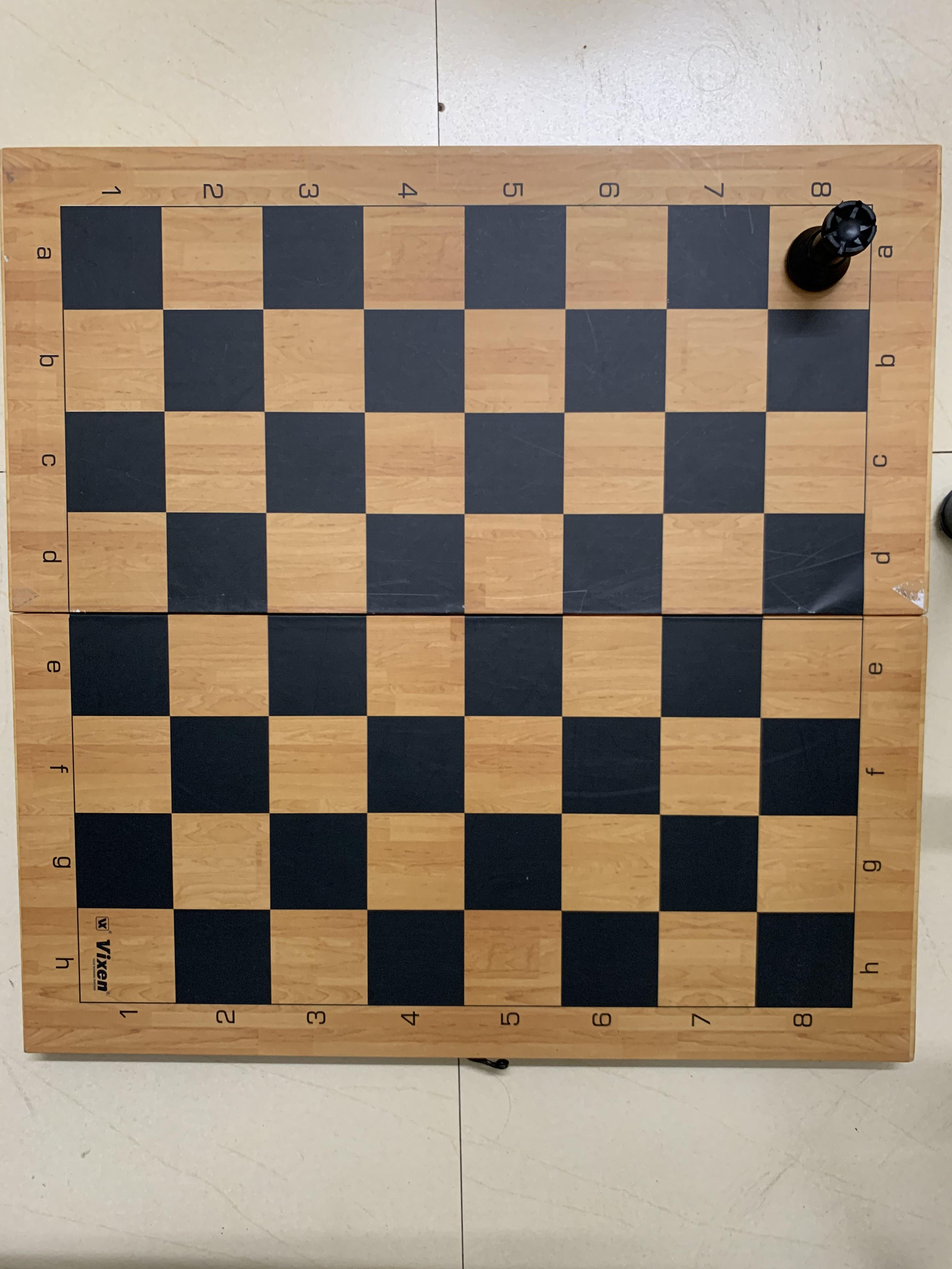black_rook: (771, 200, 881, 299)
